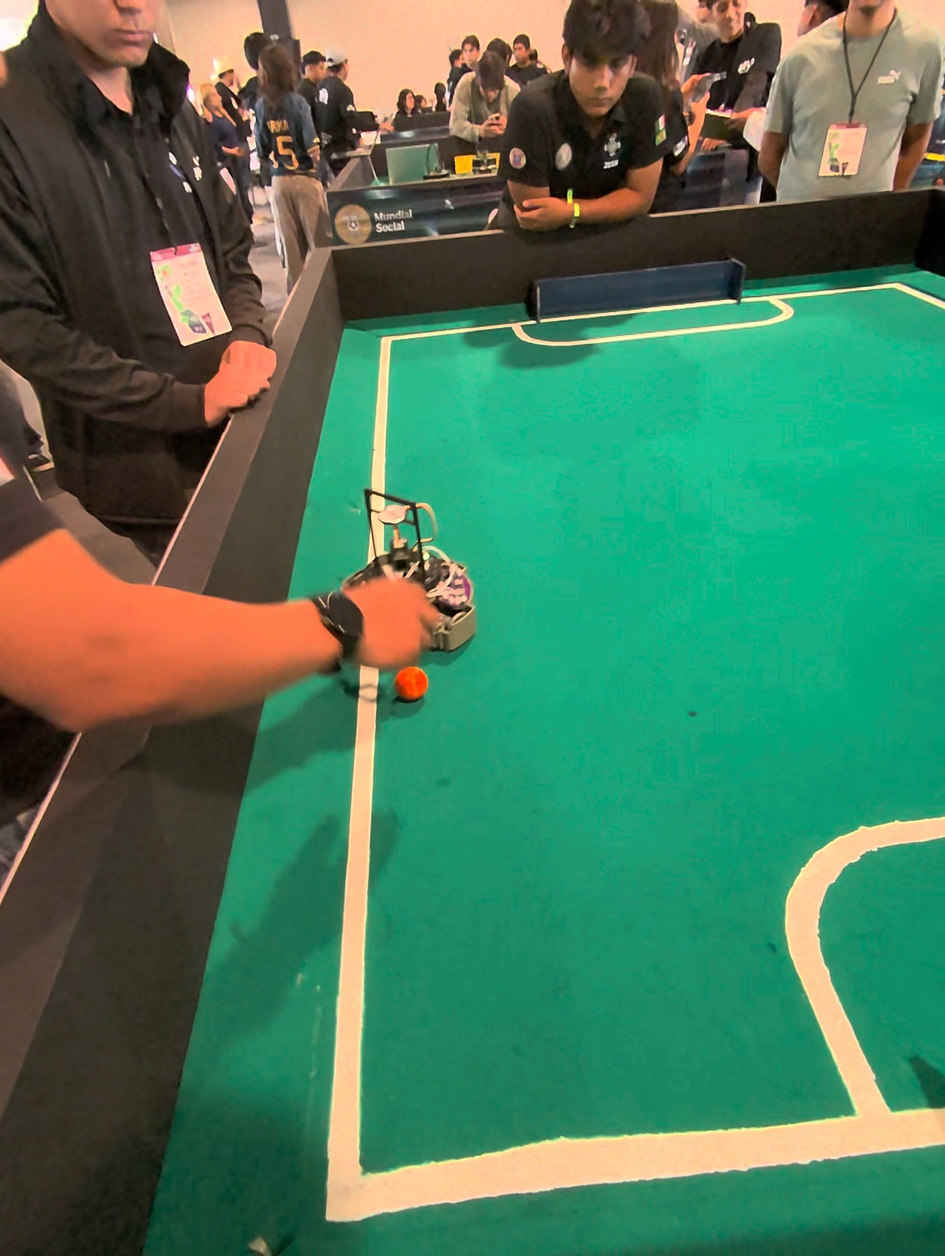Robot: (327, 447, 479, 652)
pelota: (381, 656, 440, 711)
